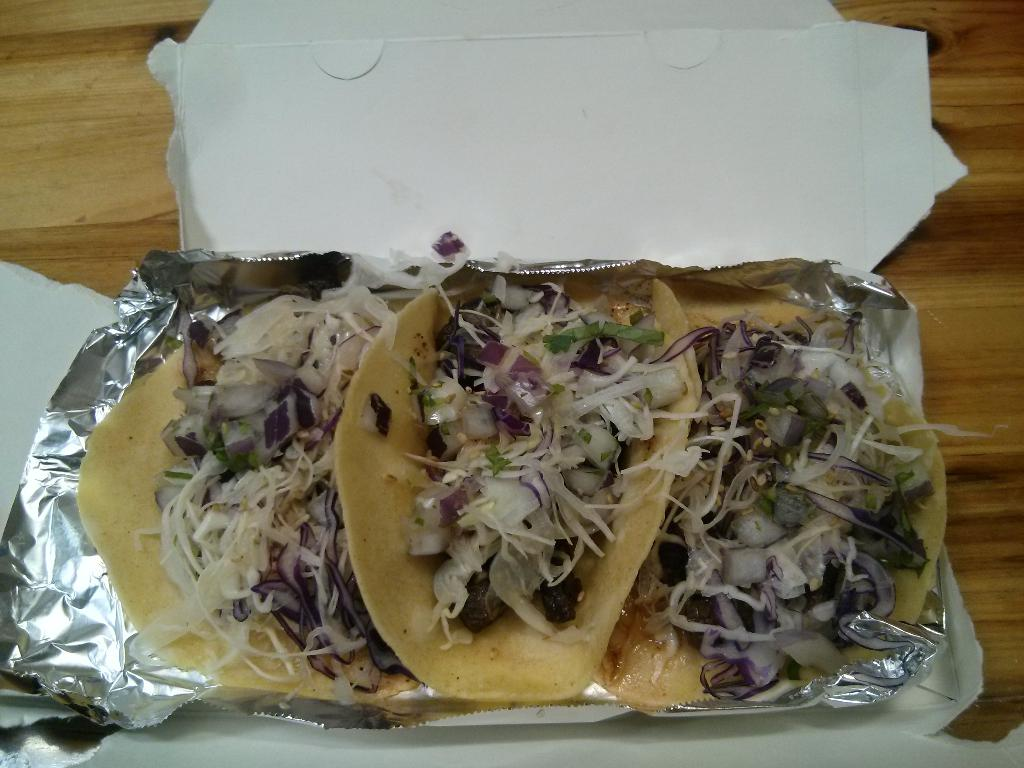taco: (202, 245, 1006, 735), (76, 286, 392, 716)
